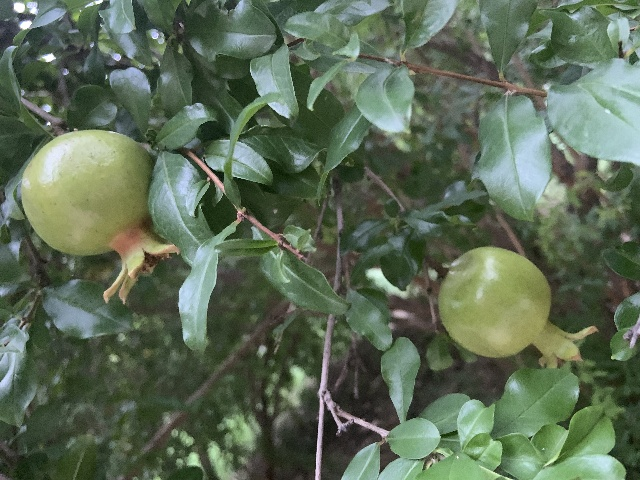mid-growth: (19, 128, 178, 304), (436, 247, 596, 370)
